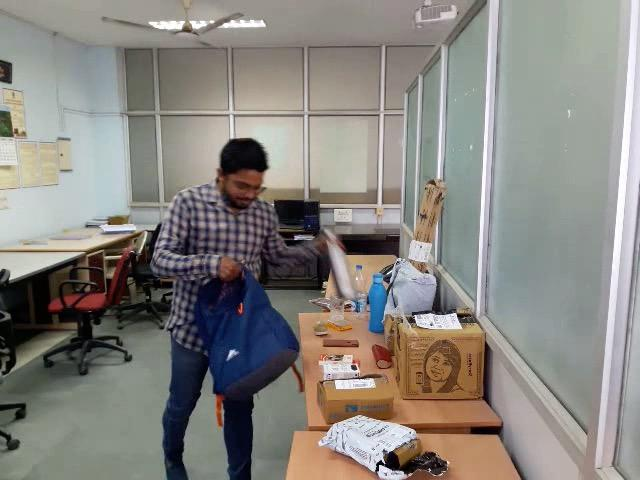shoplifting: (95, 210, 449, 399)
